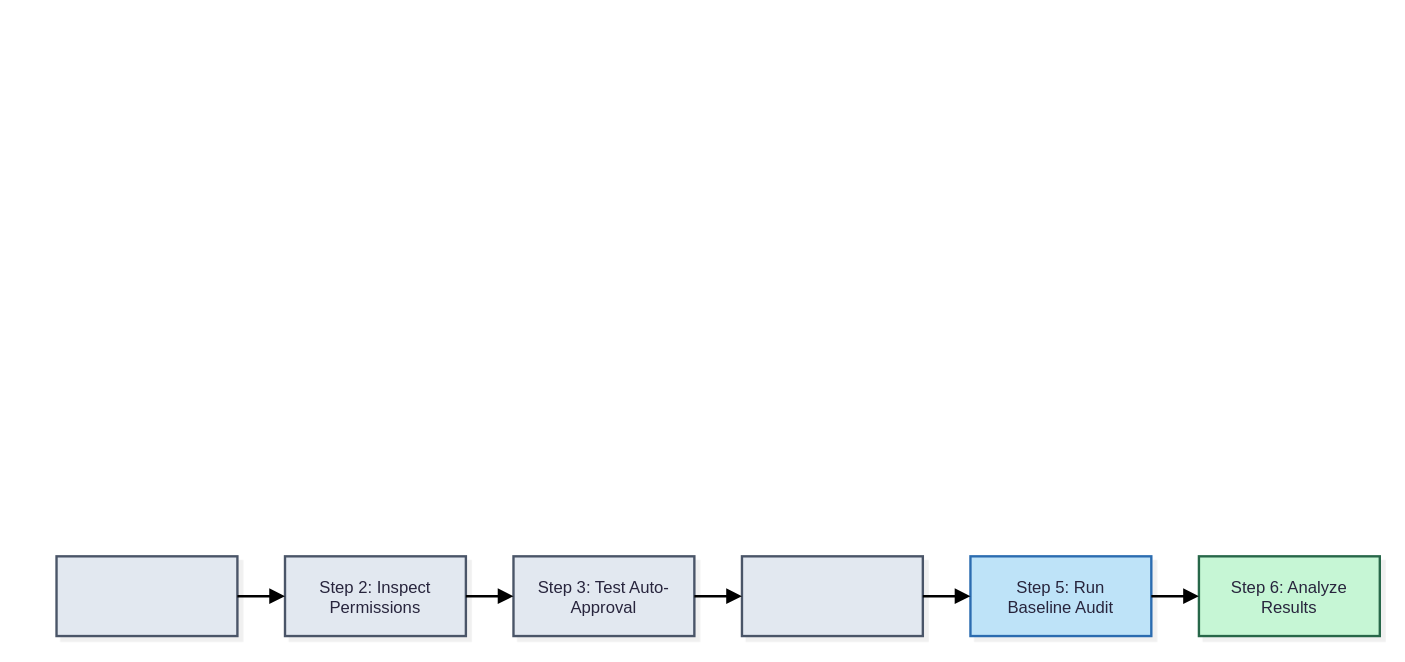
This 1405x662 diagram has some shape labels left out. Each missing label, with the centre of its shape:
"Step 1: Check Version" belongs at point 149,598.
"Step 4: Clone Audit Tool" belongs at point 834,598.
